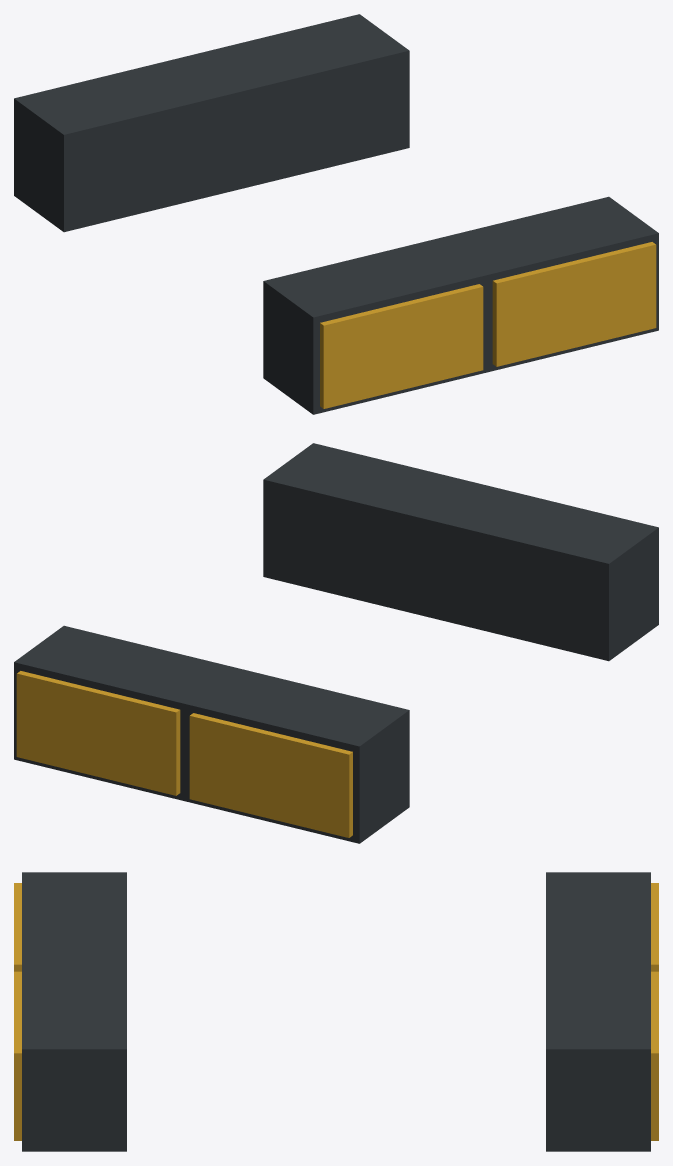
The model's file is mobile_crane_lockers.glb.
3 renders of one model, top to bottom at view 1: azimuth 30°, elevation 25°; view 2: azimuth 150°, elevation 25°; view 3: azimuth 270°, elevation 25°, orthographic. The views are drawn at different scales.
Visible parts, largest first — view 1: body:compound; view 2: body:compound; view 3: body:compound.
Part boxes in pixels (left/top/right/bottom): body:compound: left=14, top=14, right=658, bottom=414; body:compound: left=14, top=443, right=658, bottom=843; body:compound: left=14, top=872, right=658, bottom=1151.
Size of the model in its own units: 1.62 by 0.4375 by 2.5.
